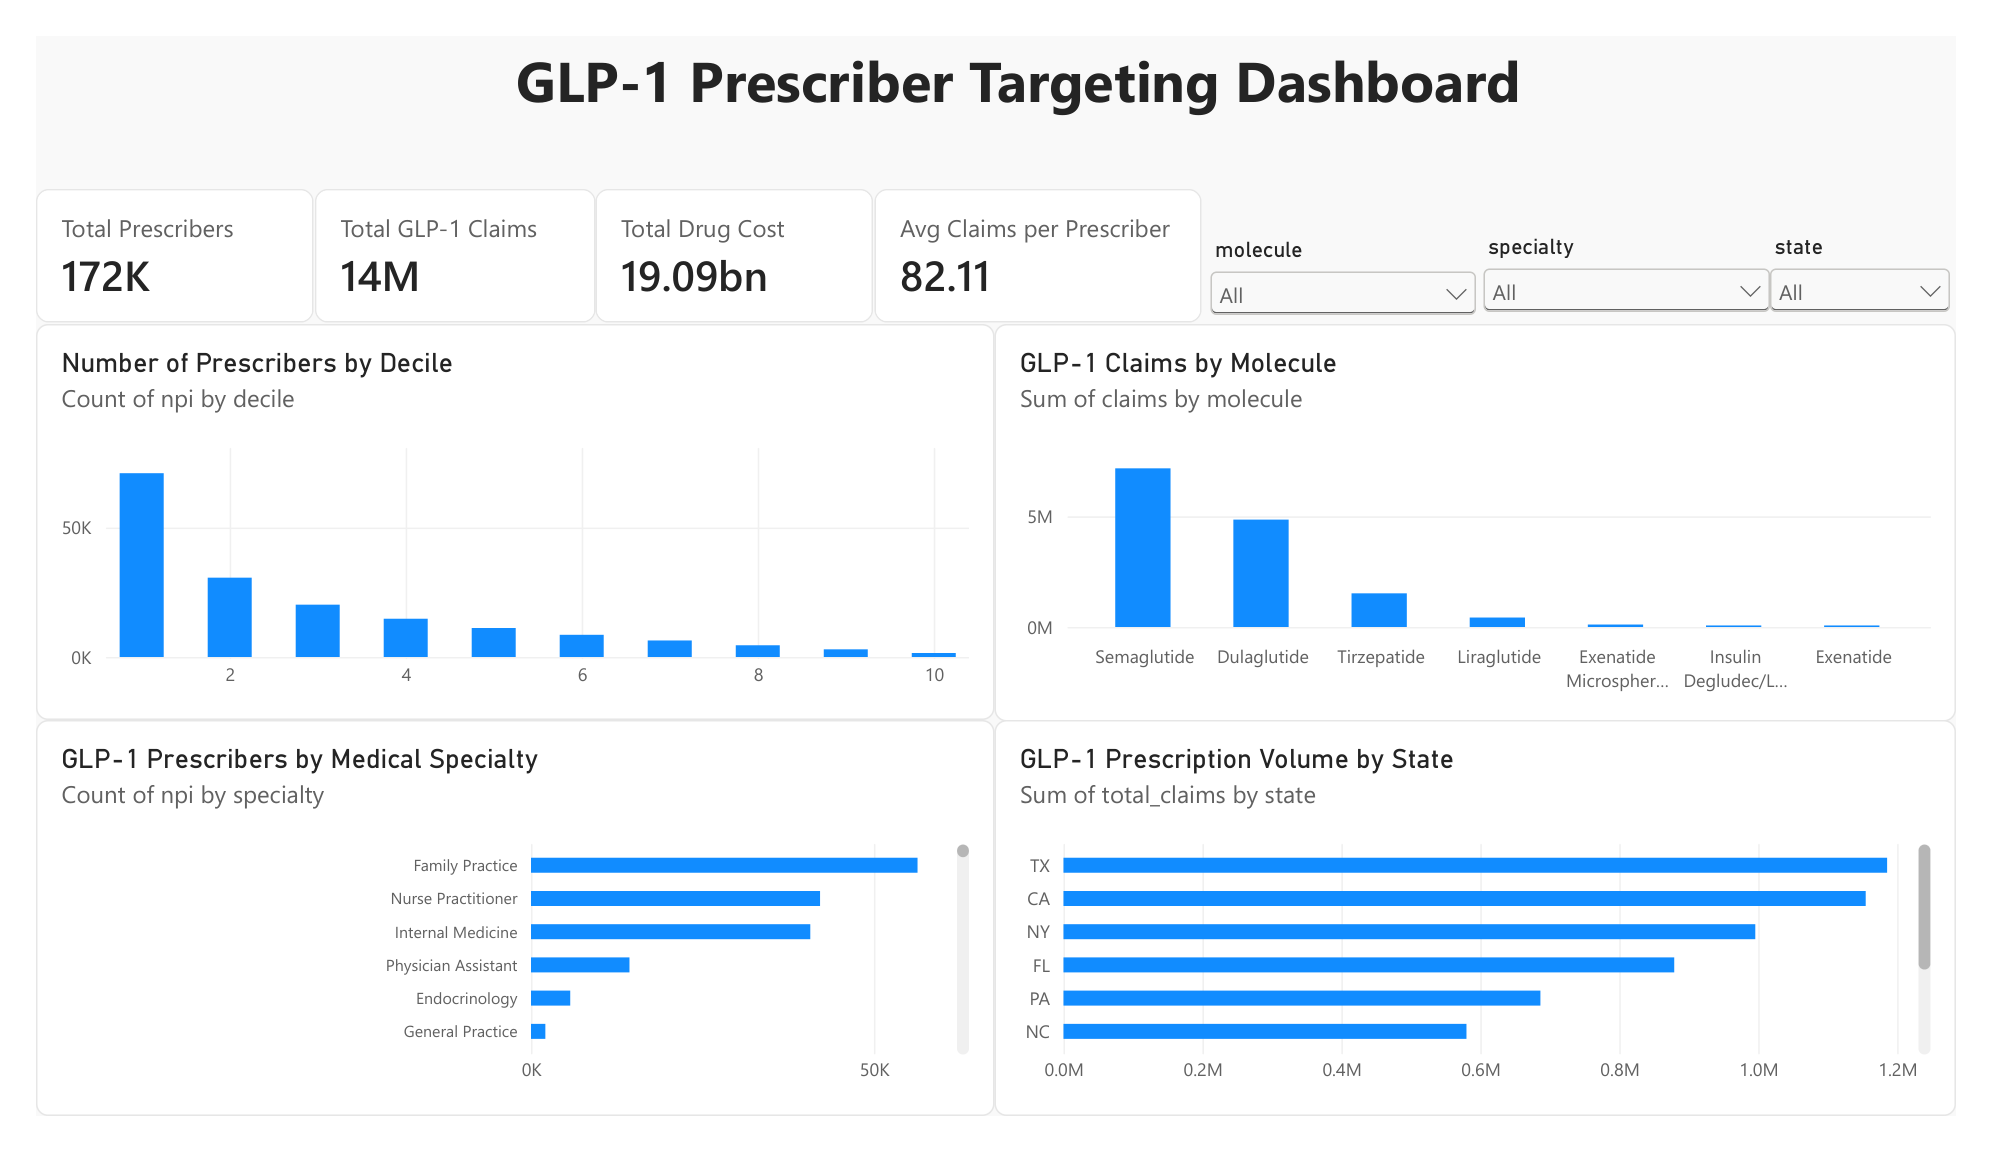

This screenshot's page, from the dashboard's own definition file:
{"tool":"powerbi","page":{"name":"Executive Dashboard","canvas":[1280,720],"ordinal":0},"visuals":[{"type":"cardVisual","fields":{"Data":["glp1_prescribers.Total Prescribers"]},"box":[0,102.2,185.8,89.3],"z":0},{"type":"cardVisual","fields":{"Data":["glp1_prescribers.Total GLP-1 Claims"]},"box":[185.8,102.2,187.2,89.3],"z":1000},{"type":"cardVisual","fields":{"Data":["glp1_prescribers.Total Drug Cost"]},"box":[373,102.2,185.8,89.3],"z":2000},{"type":"cardVisual","fields":{"Data":["glp1_prescribers.Avg Claims per Prescriber"]},"box":[558.7,102.2,218.9,89.3],"z":3000},{"type":"clusteredColumnChart","title":"Number of Prescribers by Decile","fields":{"Category":["glp1_prescribers.decile"],"Y":["Count(glp1_prescribers.npi)"]},"box":[0,191.5,639.4,265],"z":4000},{"type":"clusteredBarChart","title":"GLP-1 Prescribers by Medical Specialty","fields":{"Category":["glp1_prescribers.specialty"],"Y":["Count(glp1_prescribers.npi)"]},"box":[0,456.5,639.4,263.5],"z":5000},{"type":"clusteredColumnChart","title":"GLP-1 Claims by Molecule","fields":{"Category":["glp1_prescriber_molecule.molecule"],"Y":["Sum(glp1_prescriber_molecule.claims)"]},"box":[639.4,191.5,641,265],"z":6000},{"type":"clusteredBarChart","title":"GLP-1 Prescription Volume by State","fields":{"Category":["glp1_prescribers.state"],"Y":["Sum(glp1_prescribers.total_claims)"]},"box":[639.4,456.5,640.8,263.5],"z":7000},{"type":"slicer","fields":{"Values":["glp1_prescriber_molecule.molecule"]},"box":[777.6,133.9,187.2,51.8],"z":8000},{"type":"slicer","fields":{"Values":["glp1_prescribers.specialty"]},"box":[960.5,132.5,200.2,76.3],"z":9000},{"type":"slicer","fields":{"Values":["glp1_prescriber_molecule.state"]},"box":[1150.6,132.5,130,55],"z":10000},{"type":"textbox","box":[319.7,4.3,856.8,79.2],"z":10001}]}

Visuals, with their boxes in screenshot pixels (x1, y1, x2, y2), scaled from the page's 1280x720 canvas onto the 1992x1152 screenshot:
cardVisual - glp1_prescribers.Total Prescribers: BBox(0, 164, 289, 306)
cardVisual - glp1_prescribers.Total GLP-1 Claims: BBox(289, 164, 580, 306)
cardVisual - glp1_prescribers.Total Drug Cost: BBox(580, 164, 870, 306)
cardVisual - glp1_prescribers.Avg Claims per Prescriber: BBox(869, 164, 1210, 306)
"Number of Prescribers by Decile" clusteredColumnChart: BBox(0, 306, 995, 730)
"GLP-1 Prescribers by Medical Specialty" clusteredBarChart: BBox(0, 730, 995, 1151)
"GLP-1 Claims by Molecule" clusteredColumnChart: BBox(995, 306, 1991, 730)
"GLP-1 Prescription Volume by State" clusteredBarChart: BBox(995, 730, 1991, 1151)
slicer - glp1_prescriber_molecule.molecule: BBox(1210, 214, 1501, 297)
slicer - glp1_prescribers.specialty: BBox(1495, 212, 1806, 334)
slicer - glp1_prescriber_molecule.state: BBox(1791, 212, 1991, 300)
textbox: BBox(498, 7, 1831, 134)
